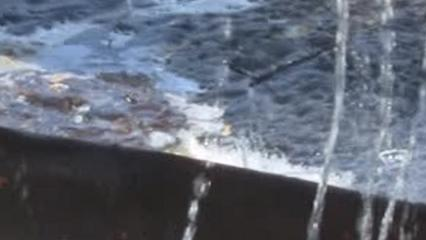rust: (102, 72, 176, 133), (9, 74, 82, 118)
